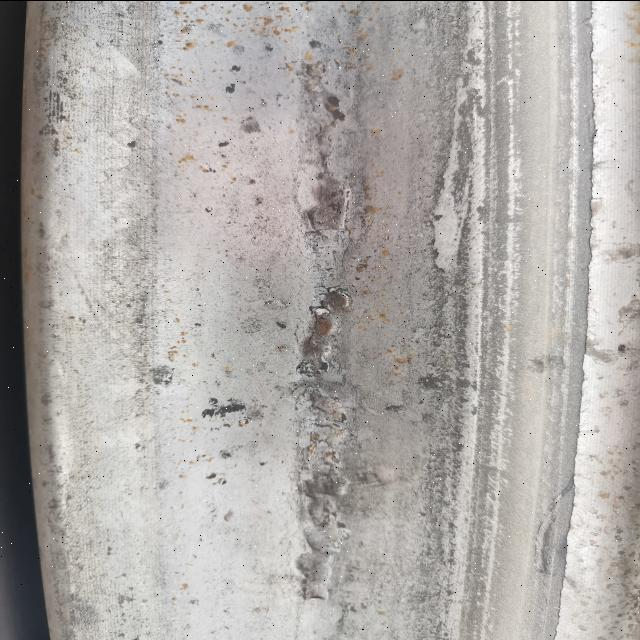boli: (276, 401, 358, 608), (289, 273, 362, 365), (294, 169, 368, 245)
